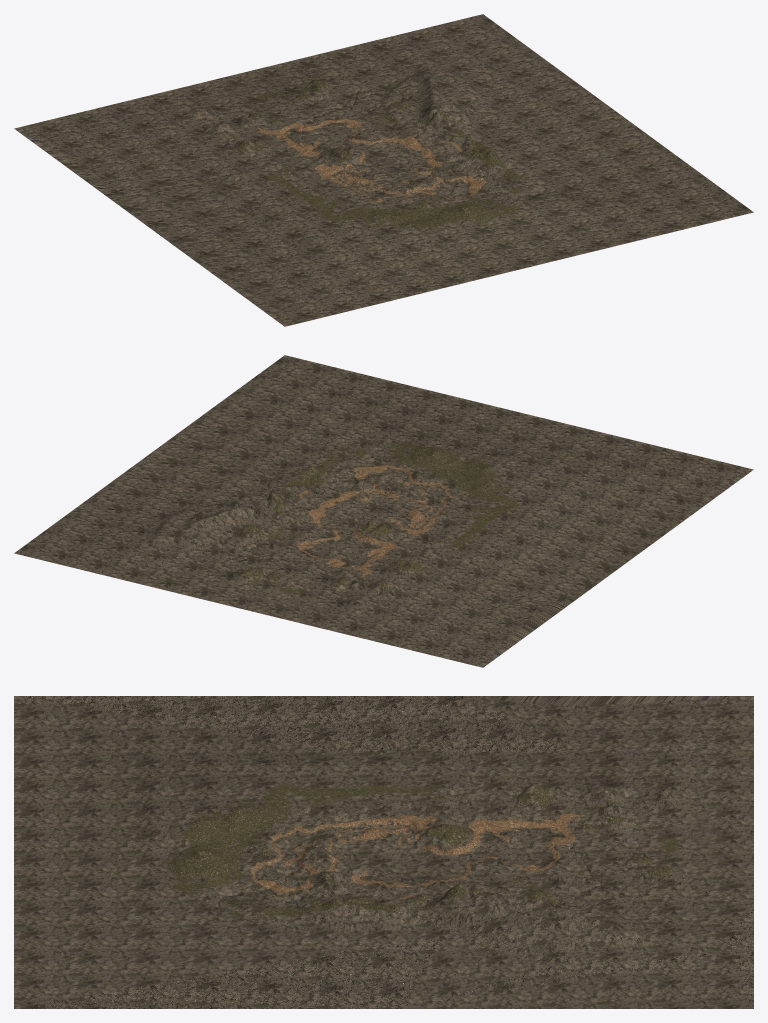
The model's file is Tierra_2_3.glb.
3 renders of one model, top to bottom at view 1: azimuth 30°, elevation 25°; view 2: azimuth 150°, elevation 25°; view 3: azimuth 270°, elevation 25°, orthographic. The views are drawn at different scales.
Parts seen in each view (by area): view 1: Tierra; view 2: Tierra; view 3: Tierra.
Part boxes in pixels (left/top/right/bottom): Tierra: left=14, top=14, right=753, bottom=326; Tierra: left=14, top=355, right=753, bottom=667; Tierra: left=14, top=696, right=753, bottom=1008.
Bounding box in the file's own units: 120 × 5.27 × 120.
1 material, 1 textured.
